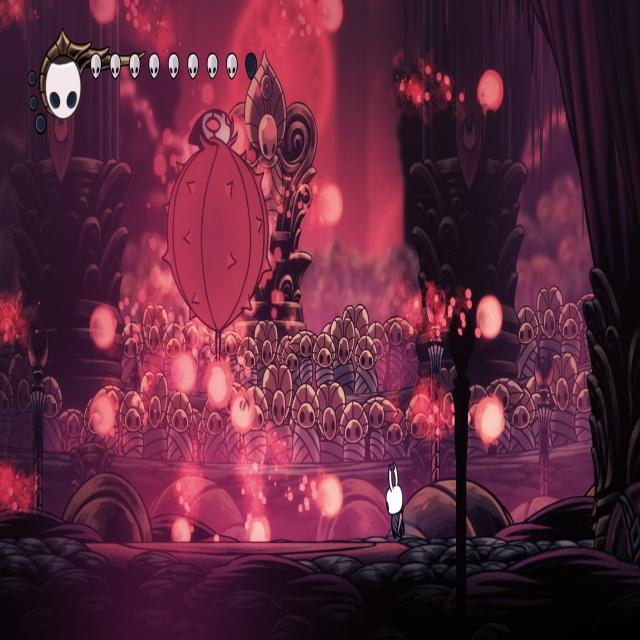Player: (378, 454, 408, 540)
Pufferfish: (157, 101, 280, 370)
Tiny Fireballs: (475, 396, 505, 444), (205, 360, 234, 409), (89, 391, 116, 438), (90, 304, 118, 349), (476, 296, 502, 340), (478, 69, 504, 113), (171, 351, 198, 393), (318, 476, 342, 518), (230, 393, 255, 433), (319, 182, 342, 224), (319, 0, 342, 33), (90, 0, 118, 24), (246, 516, 271, 542), (232, 116, 246, 156), (171, 518, 191, 542)
